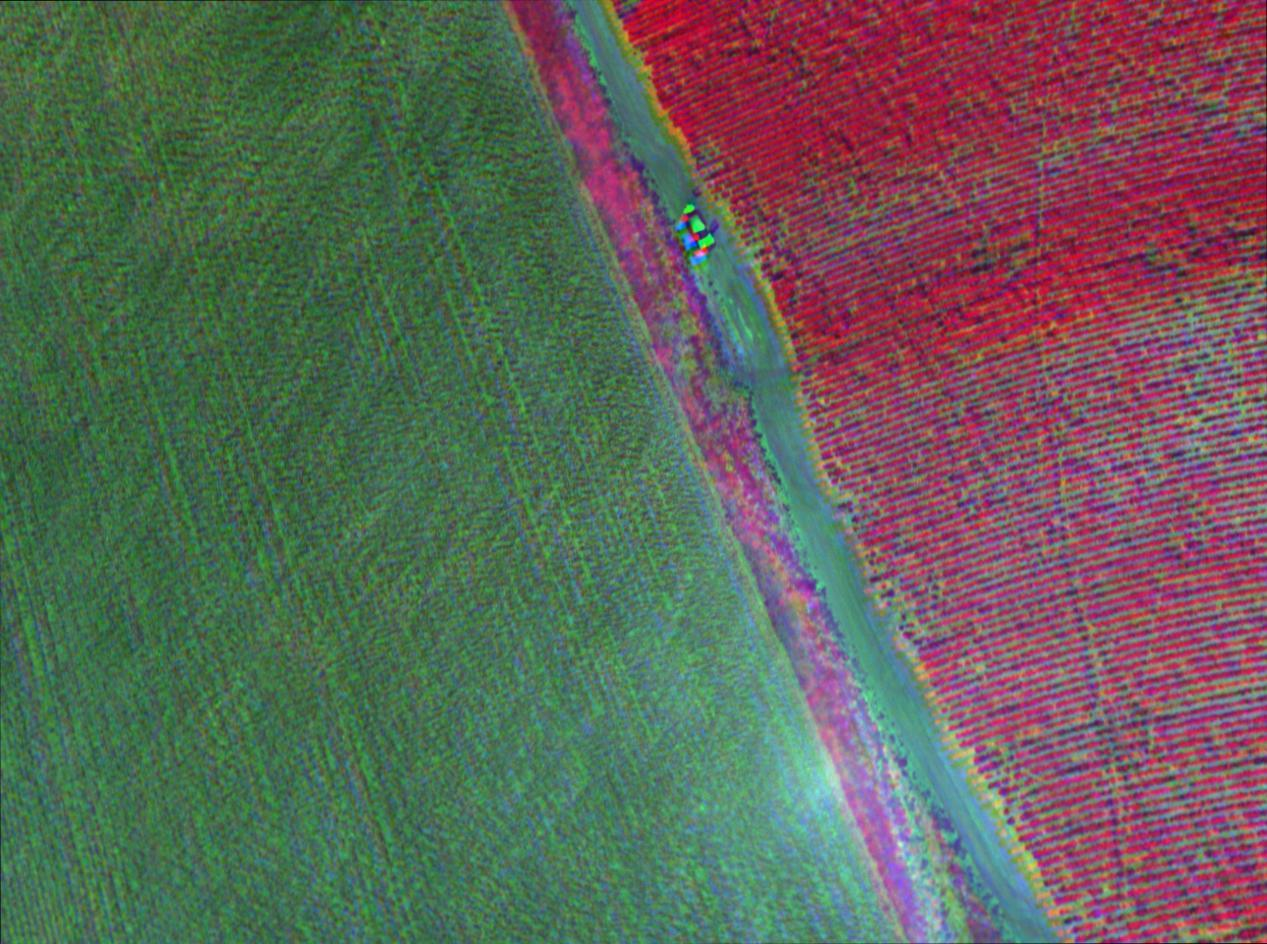dc: (836, 468, 961, 650), (1171, 278, 1267, 400), (956, 700, 1039, 832), (846, 158, 932, 231)
